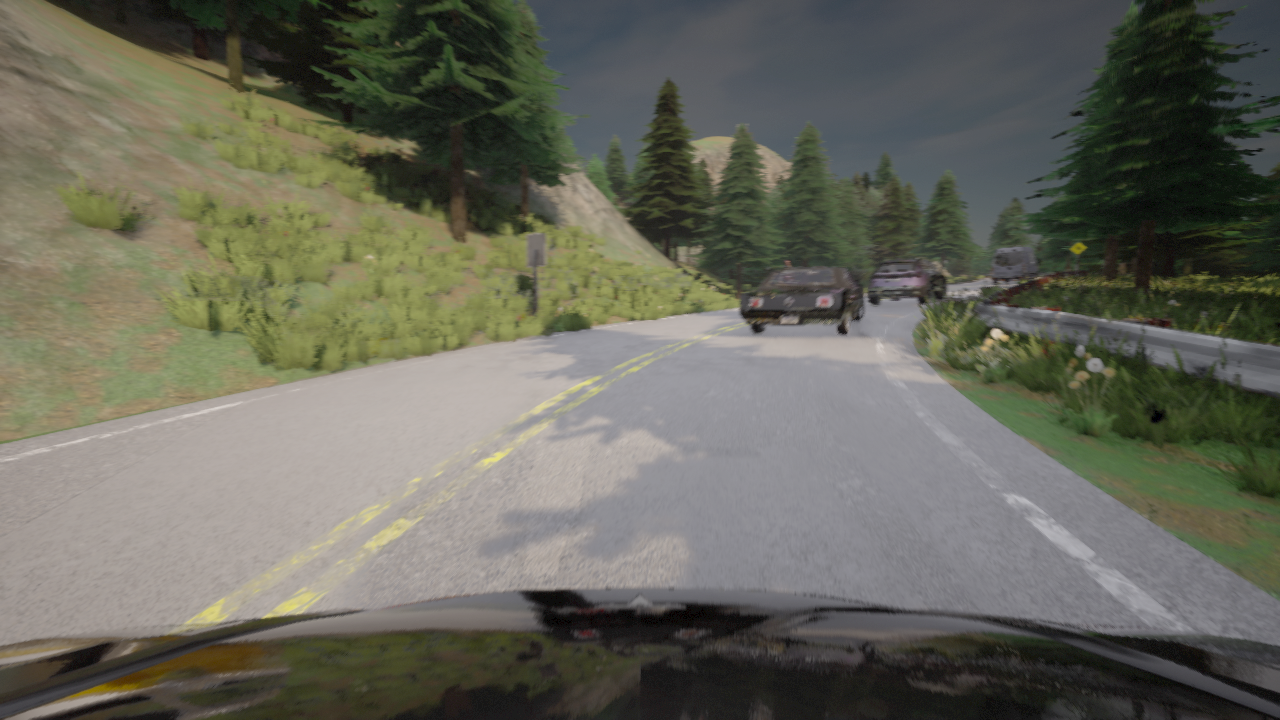cyclist: (0, 588, 1279, 719), (739, 267, 863, 335), (867, 257, 946, 304), (991, 246, 1039, 283)
